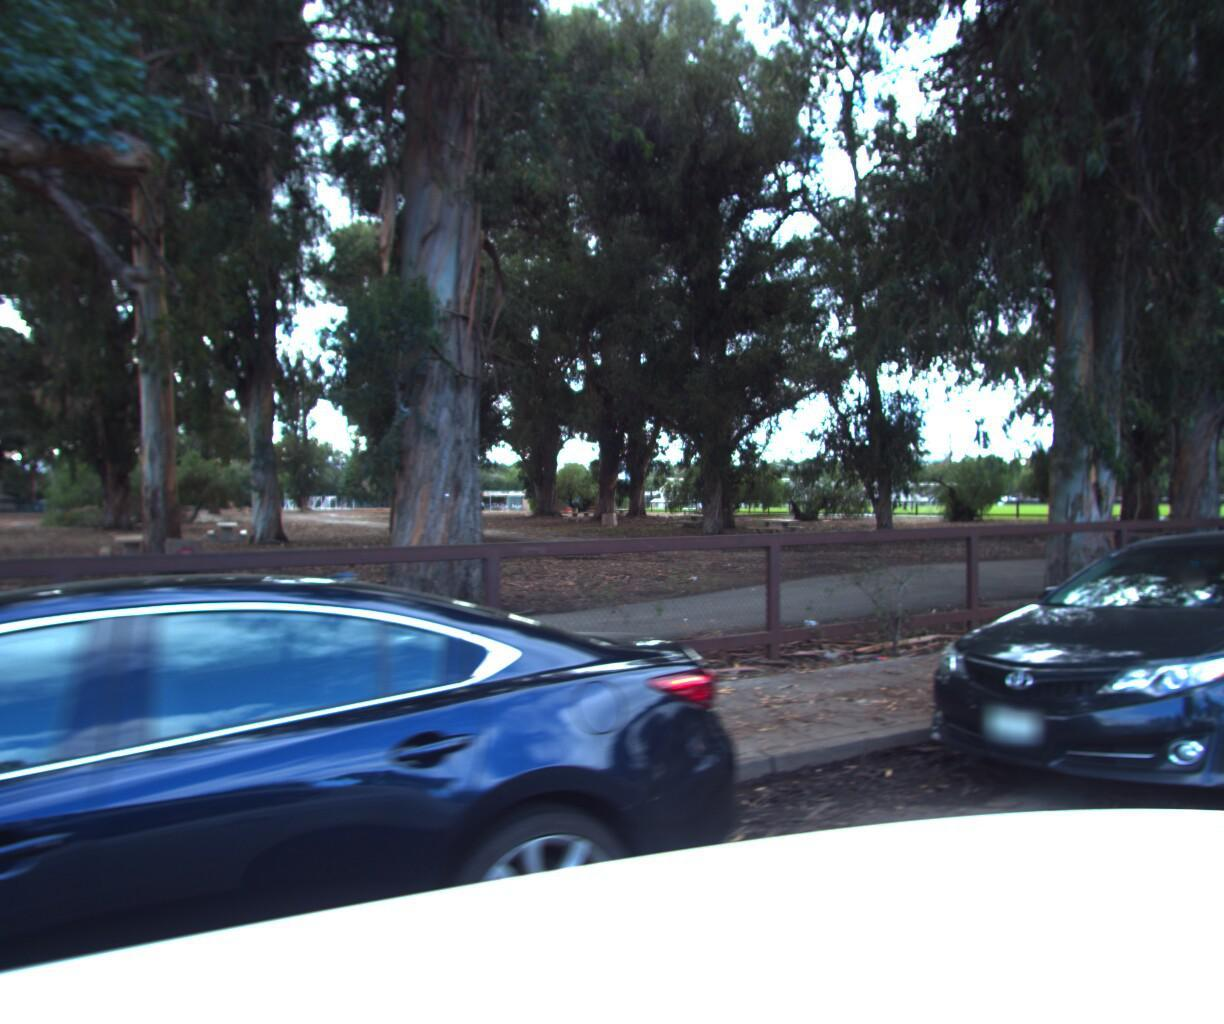car: (0, 538, 831, 1024), (888, 514, 1224, 897)
